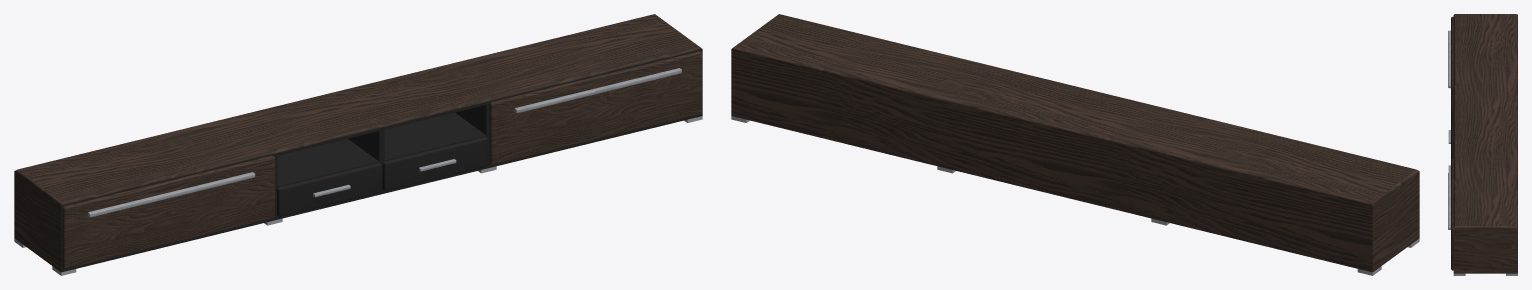
The model's file is wall_cabinet_037.fbx.
3 views of the same model, side by side, from view 1: azimuth 30°, elevation 25°; view 2: azimuth 150°, elevation 25°; view 3: azimuth 270°, elevation 25° (orthographic). The views are drawn at different scales.
Parts seen in each view (by area): view 1: wall_cabinet_037; view 2: wall_cabinet_037; view 3: wall_cabinet_037.
Boxes of the visible parts, x1=… form: wall_cabinet_037: x1=14, y1=14, x2=702, y2=275; wall_cabinet_037: x1=731, y1=14, x2=1419, y2=275; wall_cabinet_037: x1=1448, y1=14, x2=1517, y2=275.
Bounding box in the file's own units: 488 × 67.41 × 52.58.
